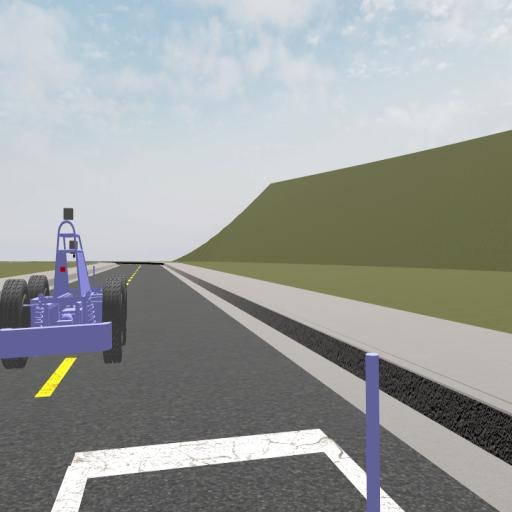ERP-42: (0, 207, 127, 372)
